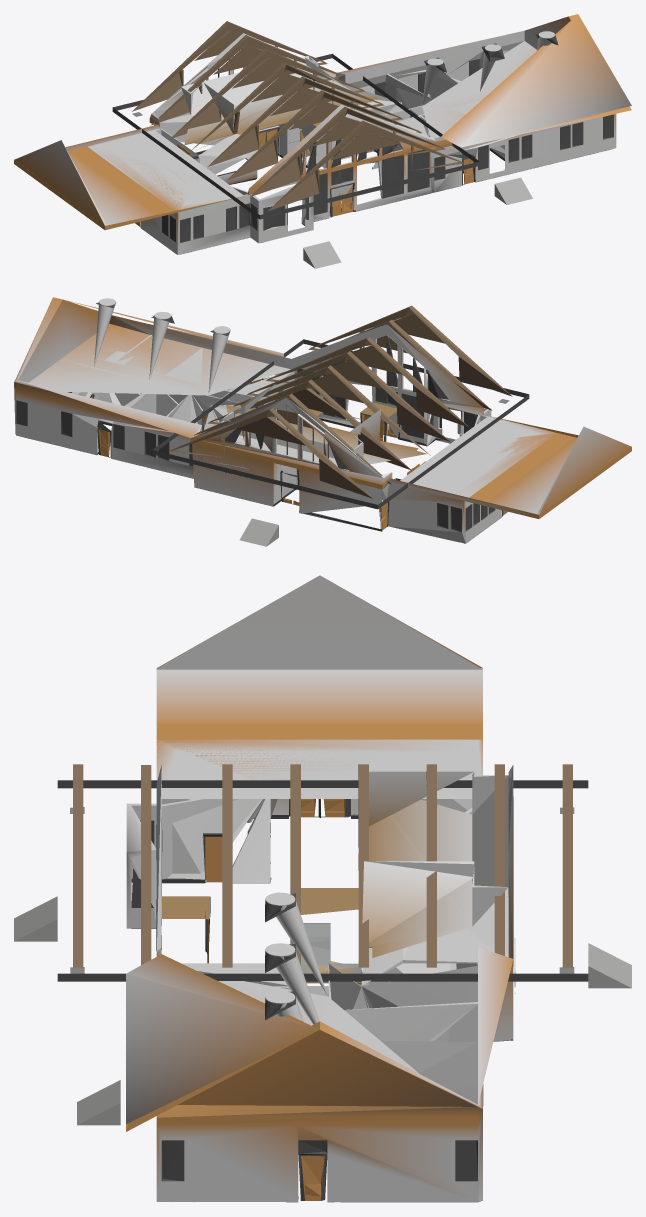
Rendered from terminal.zfix-v10.lod2.glb.
3 views of the same model, one above another, from view 1: azimuth 30°, elevation 25°; view 2: azimuth 150°, elevation 25°; view 3: azimuth 270°, elevation 25° (orthographic). The views are drawn at different scales.
Visible parts, largest first — view 1: Mesh1_Metal_Aluminum_Anodized_0; view 2: Mesh1_Metal_Aluminum_Anodized_0; view 3: Mesh1_Metal_Aluminum_Anodized_0.
Boxes of the visible parts, x1=… form: Mesh1_Metal_Aluminum_Anodized_0: x1=14, y1=14, x2=631, y2=268; Mesh1_Metal_Aluminum_Anodized_0: x1=14, y1=297, x2=631, y2=546; Mesh1_Metal_Aluminum_Anodized_0: x1=14, y1=575, x2=631, y2=1202.
Size of the model in its own units: 39.46 by 8.58 by 22.6.
